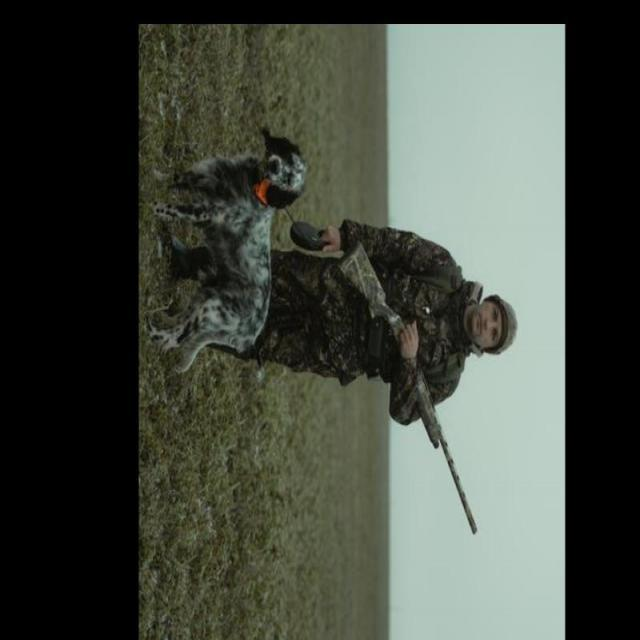weapon: (337, 237, 480, 536)
